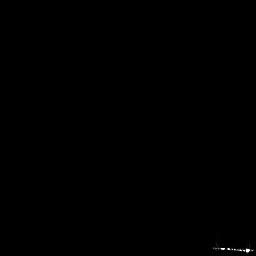ship: (212, 242, 256, 255)
